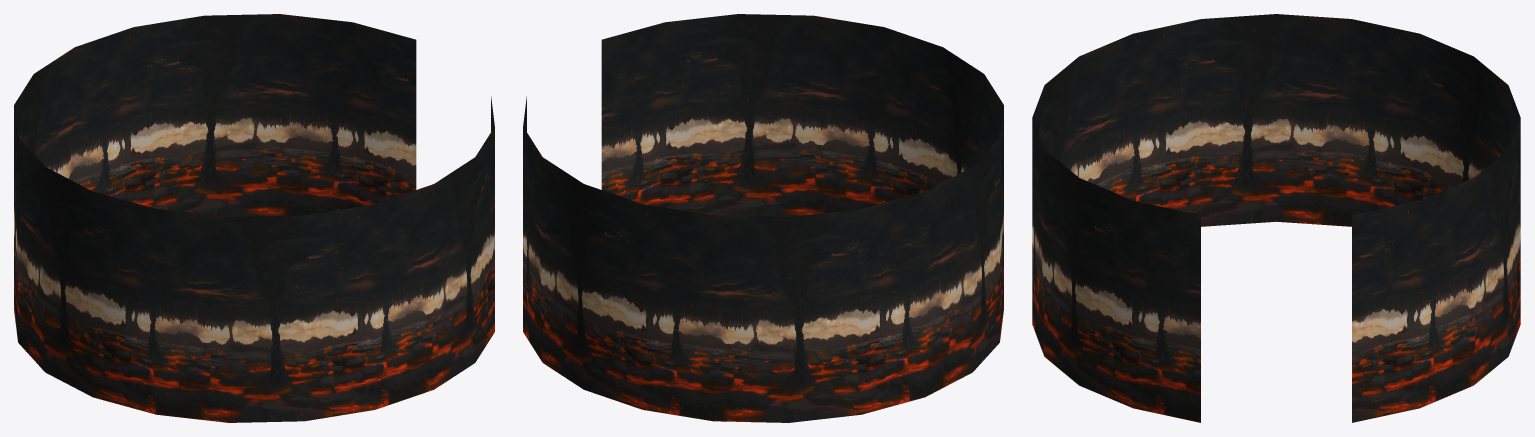
Rendered from Sky_Hell_001.FBX.
3 renders of one model, left to right at view 1: azimuth 30°, elevation 25°; view 2: azimuth 150°, elevation 25°; view 3: azimuth 270°, elevation 25°, orthographic.
Visible parts, largest first — view 1: Sky_Hell_001; view 2: Sky_Hell_001; view 3: Sky_Hell_001.
Part boxes in pixels (x1,y1,x2,y2): Sky_Hell_001: (14,14,494,422); Sky_Hell_001: (523,14,1003,422); Sky_Hell_001: (1032,14,1520,422).
Bounding box in the file's own units: 49887 × 24025 × 51138.
1 material, 1 textured.
